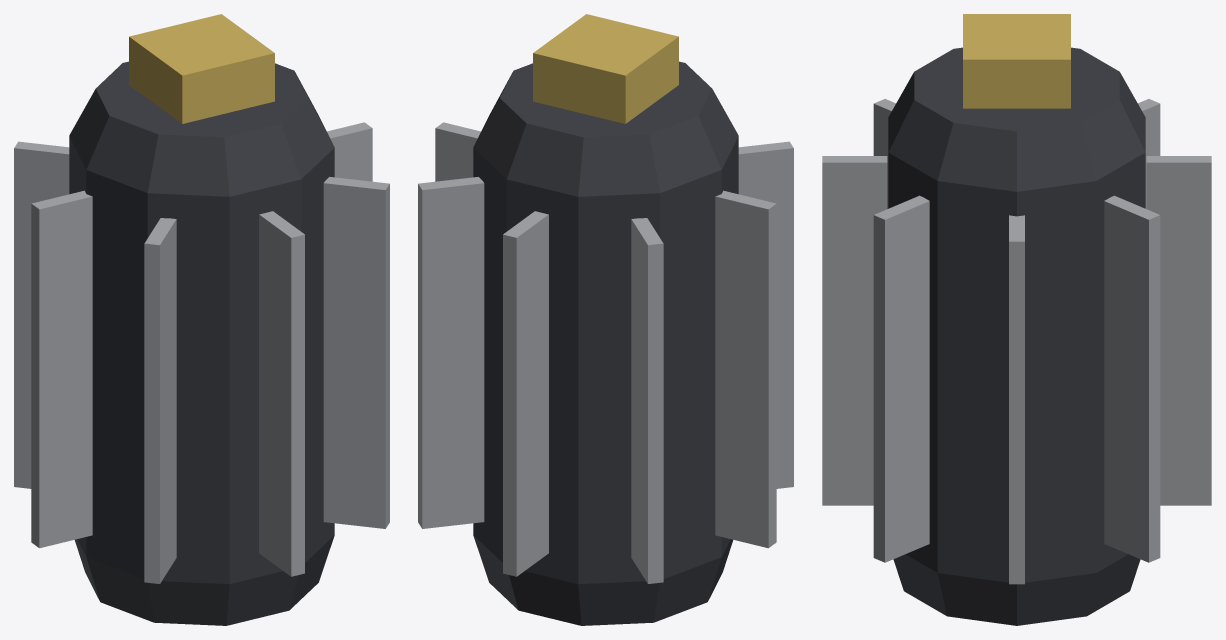
File: Pow_RTG.fbx
3 renders of one model, left to right at view 1: azimuth 30°, elevation 25°; view 2: azimuth 150°, elevation 25°; view 3: azimuth 270°, elevation 25°, orthographic.
Parts seen in each view (by area): view 1: Pow_RTG; view 2: Pow_RTG; view 3: Pow_RTG.
Part boxes in pixels (bbox=[...]): Pow_RTG: bbox=[14, 14, 389, 625]; Pow_RTG: bbox=[418, 14, 793, 625]; Pow_RTG: bbox=[822, 14, 1211, 625].
Size of the model in its own units: 0.72 by 1.1 by 0.72.
1 material, 1 textured.
